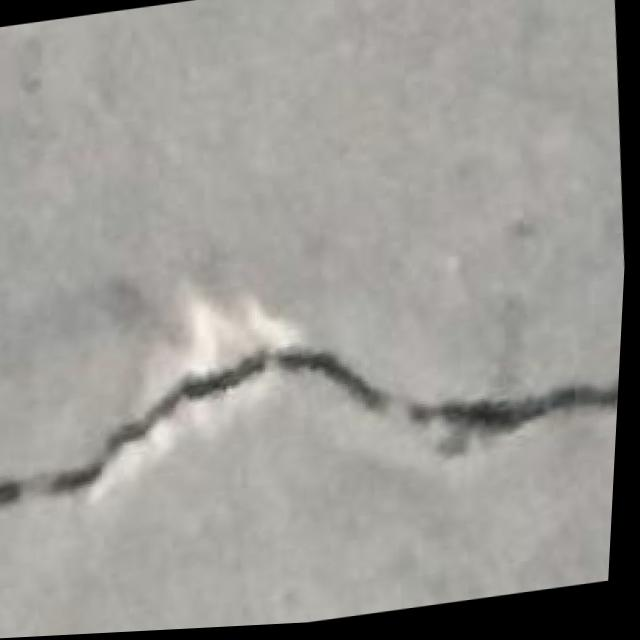Crack: (0, 239, 629, 582)
